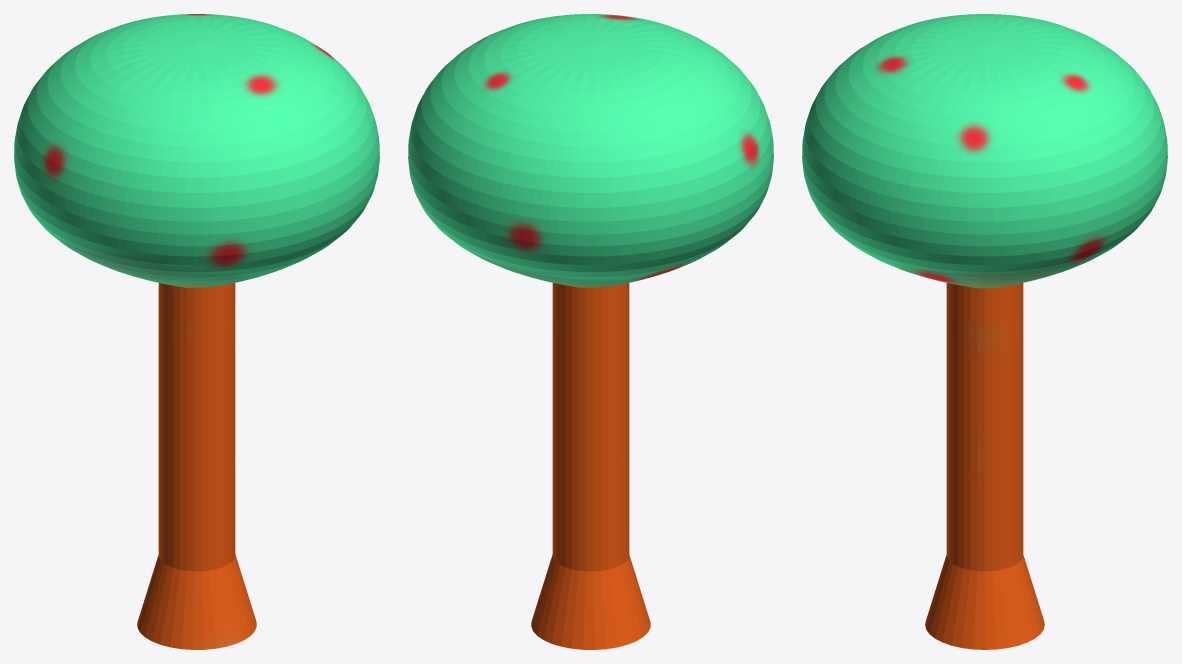
File: Tree Blender File.fbx
3 views of the same model, side by side, from view 1: azimuth 30°, elevation 25°; view 2: azimuth 150°, elevation 25°; view 3: azimuth 270°, elevation 25° (orthographic).
Visible parts, largest first — view 1: Cylinder; view 2: Cylinder; view 3: Cylinder.
Boxes of the visible parts, x1=… form: Cylinder: x1=14, y1=14, x2=379, y2=649; Cylinder: x1=408, y1=14, x2=773, y2=649; Cylinder: x1=802, y1=14, x2=1167, y2=649.
Size of the model in its own units: 564 by 986 by 564.
